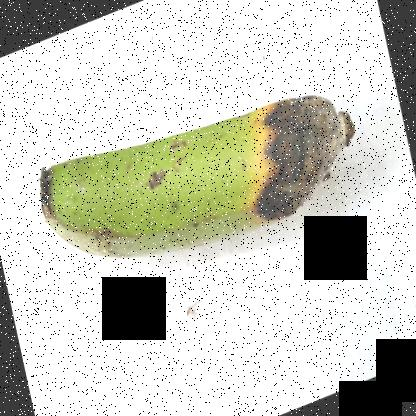rotten: (213, 69, 359, 244)
unripe: (13, 104, 243, 284)
